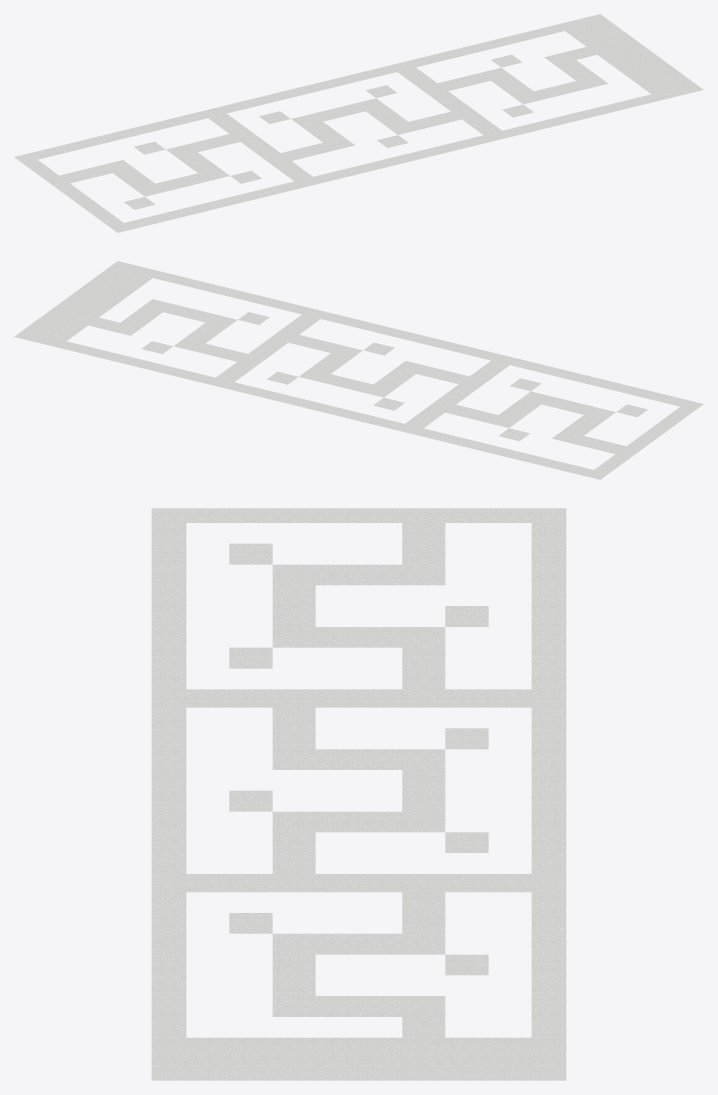
File: Asfalto percorribile.glb
The picture shows the model from 3 angles, top to bottom: view 1: azimuth 30°, elevation 25°; view 2: azimuth 150°, elevation 25°; view 3: azimuth 270°, elevation 25°; orthographic projection. The views are drawn at different scales.
Visible parts, largest first — view 1: Asfalto_percorribile; view 2: Asfalto_percorribile; view 3: Asfalto_percorribile.
Part boxes in pixels (box(x1,y1,x2,y2)): Asfalto_percorribile: box(14, 14, 703, 232); Asfalto_percorribile: box(14, 261, 703, 479); Asfalto_percorribile: box(151, 508, 566, 1080).
Bounding box in the file's own units: 78.36 × 4.05e-06 × 24.
Materials: 1 (1 with a texture image).
